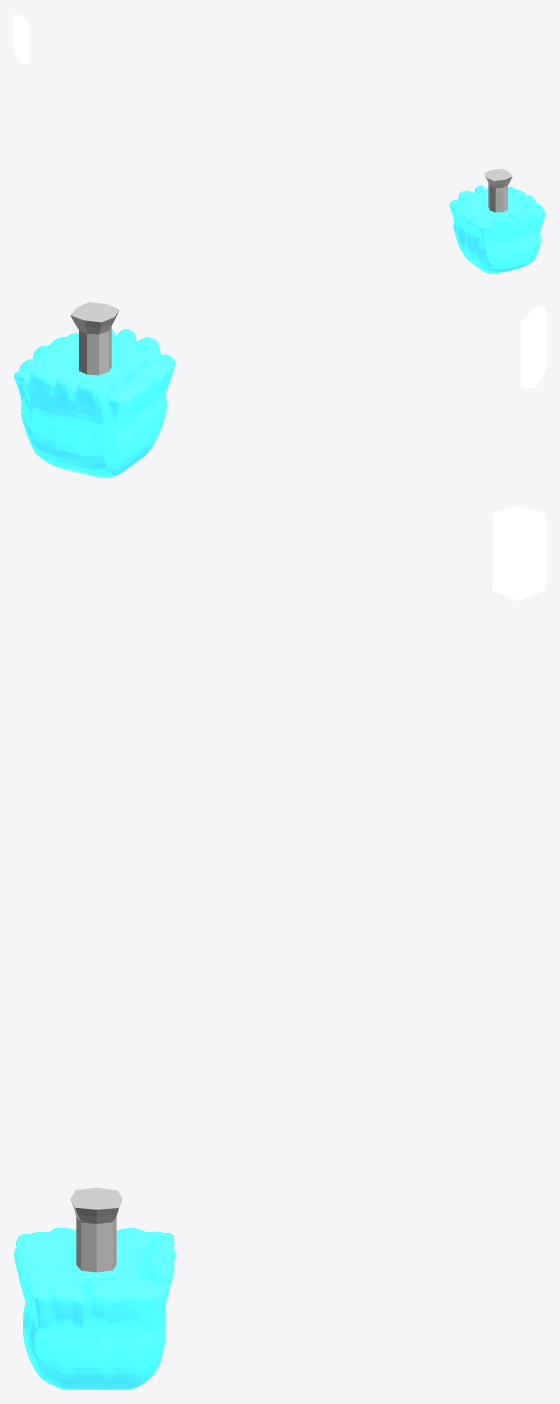
The model's file is bobaShroom.fbx.
3 views of the same model, one above another, from view 1: azimuth 30°, elevation 25°; view 2: azimuth 150°, elevation 25°; view 3: azimuth 270°, elevation 25° (orthographic). The views are drawn at different scales.
Parts seen in each view (by area): view 1: Shroom, Stem, DoorCenterWindow.002; view 2: Shroom, Stem, DoorCenterWindow.002; view 3: Shroom, DoorCenterWindow.002, Stem.
Part boxes in pixels (<box>): Shroom: <box>449,185,545,273</box>; Stem: <box>484,168,512,212</box>; DoorCenterWindow.002: <box>14,14,29,63</box>; Shroom: <box>14,329,175,477</box>; Stem: <box>70,302,119,375</box>; DoorCenterWindow.002: <box>521,306,545,387</box>; Shroom: <box>14,1227,175,1389</box>; DoorCenterWindow.002: <box>492,506,545,600</box>; Stem: <box>70,1187,122,1272</box>.
Size of the model in its own units: 2379 by 1457 by 1369.
